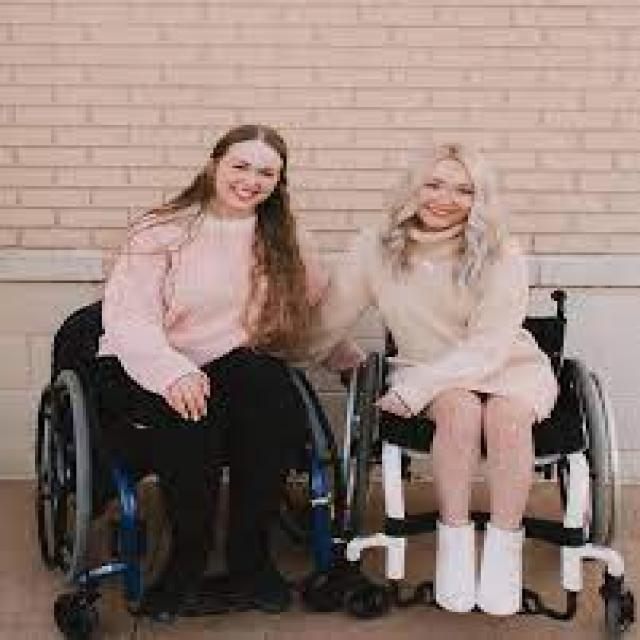wheelchairs: (326, 284, 638, 633), (25, 300, 342, 628)
